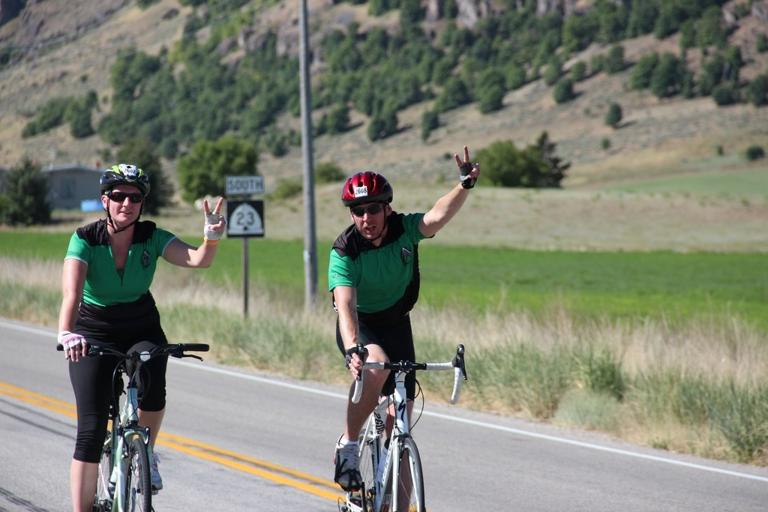non-vehicle: (57, 340, 210, 511), (335, 342, 469, 510)
